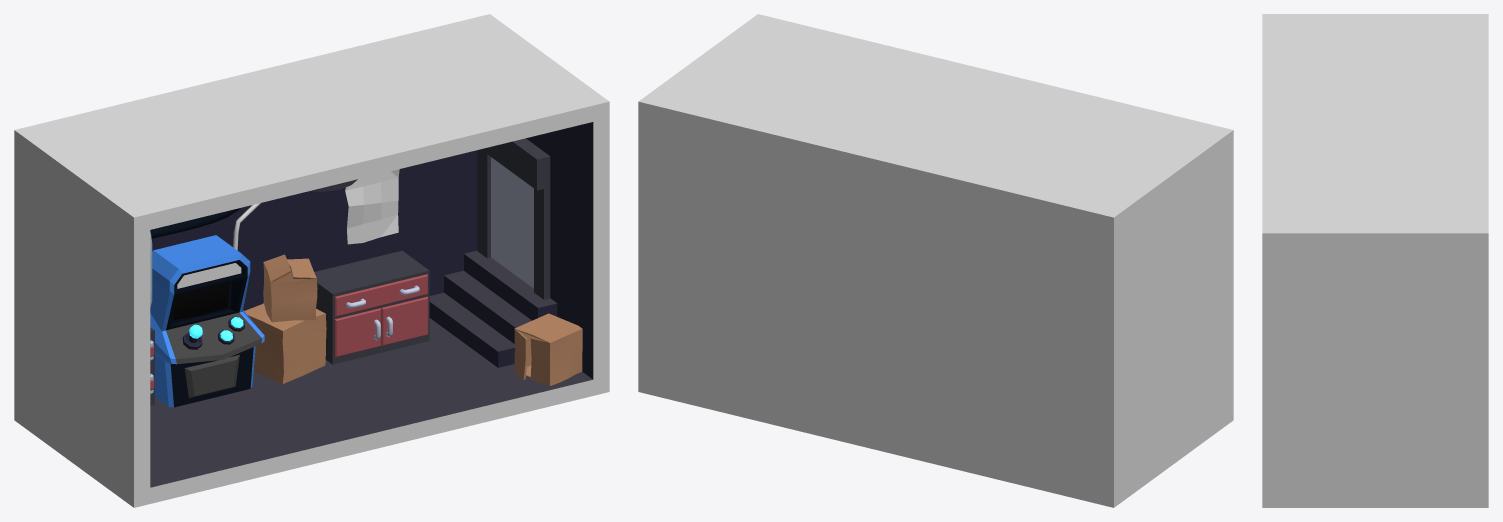
The picture shows the model from 3 angles, left to right: view 1: azimuth 30°, elevation 25°; view 2: azimuth 150°, elevation 25°; view 3: azimuth 270°, elevation 25°; orthographic projection. The views are drawn at different scales.
Parts seen in each view (by area): view 1: Room, Archade Machine.001, Misc Draws, Door, Cardboard Box, Cardboard Box Open 2, Poster, Cardboard Box Open, Cable 2; view 2: Room; view 3: Room.
Part boxes in pixels (<box>): Room: <box>14,14,609,507</box>; Archade Machine.001: <box>150,235,264,407</box>; Misc Draws: <box>314,250,429,364</box>; Door: <box>477,138,550,299</box>; Cardboard Box: <box>244,303,326,383</box>; Cardboard Box Open 2: <box>514,313,582,385</box>; Poster: <box>345,169,399,244</box>; Cardboard Box Open: <box>263,254,317,322</box>; Cable 2: <box>150,208,240,238</box>; Room: <box>638,14,1233,507</box>; Room: <box>1262,14,1488,507</box>.
Bounding box in the file's own units: 1833 × 1069 × 799.
